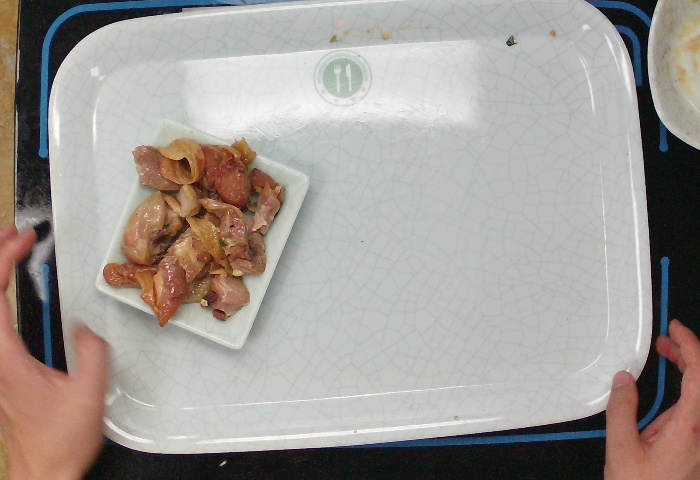WCQzf-Ru_Ci_Si_Fang_Die: (88, 112, 316, 354)
